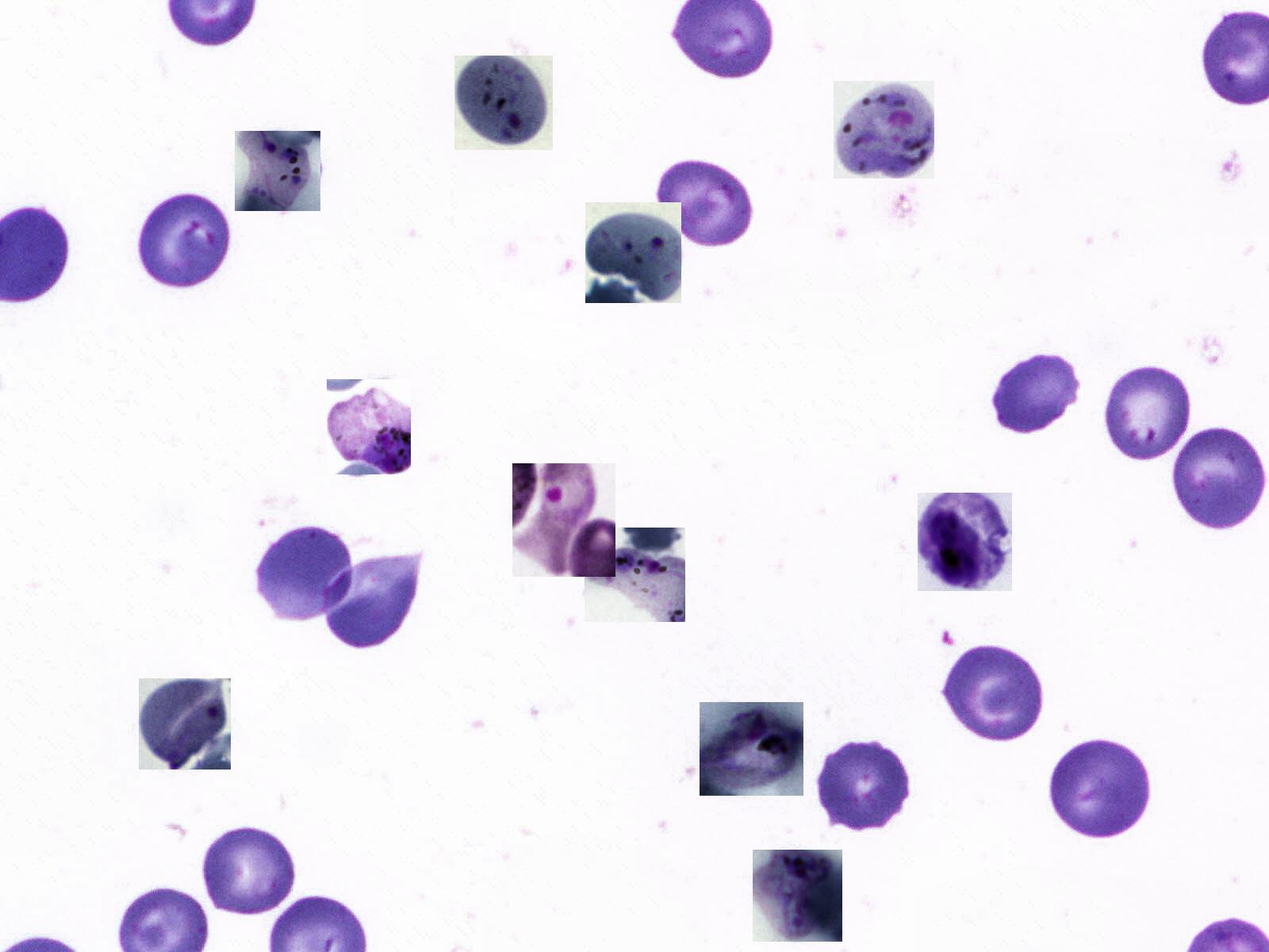Infected: (512, 463, 615, 577), (834, 81, 934, 178), (585, 202, 681, 303), (700, 702, 803, 796), (585, 528, 685, 622), (454, 56, 553, 150), (918, 493, 1012, 592), (139, 678, 231, 770), (753, 850, 842, 942), (327, 379, 411, 474), (235, 131, 320, 211)
Uninfected: (1045, 736, 1154, 843), (942, 643, 1048, 747), (1169, 424, 1265, 533), (255, 524, 356, 625), (650, 154, 753, 251), (1104, 360, 1199, 463), (200, 820, 297, 919), (138, 190, 233, 290), (815, 739, 912, 834), (321, 554, 416, 650), (990, 348, 1084, 436)
